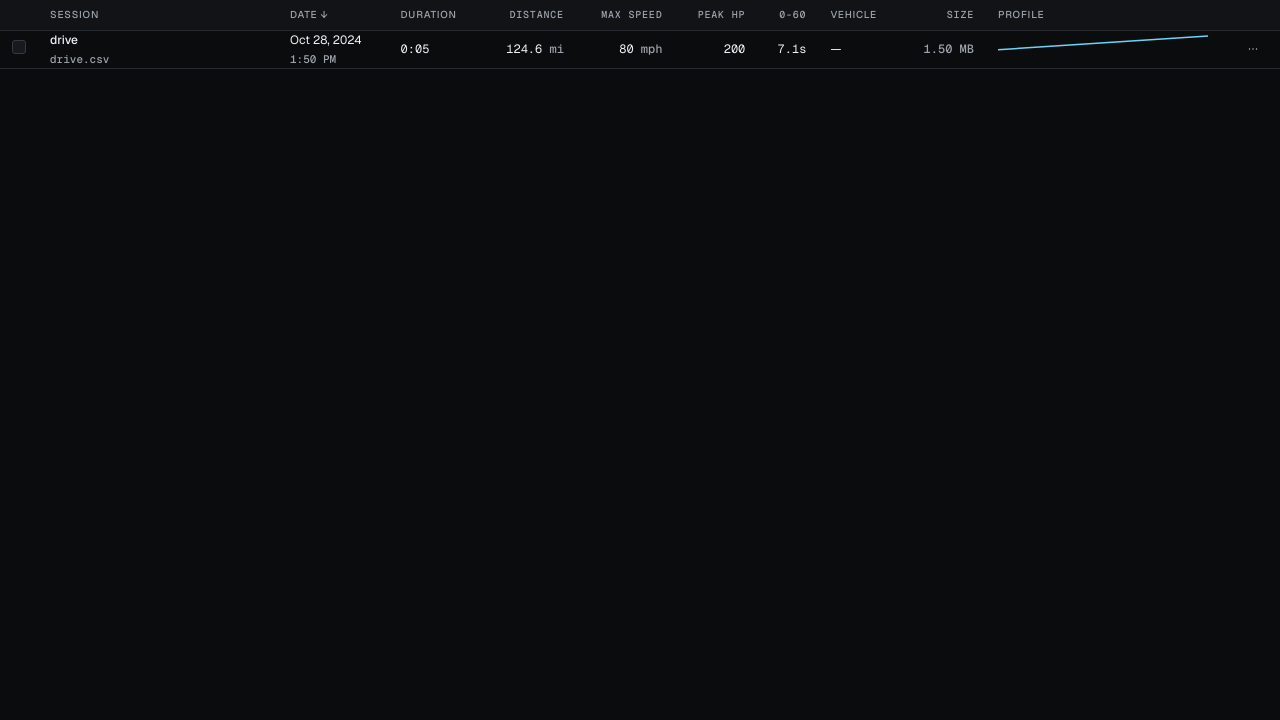
pages/library/sessions-table › menu Rename opens the rename dialog
Click the button with test id "sessions-table-more-s_1" at (1253, 49), box [1238,36,1268,62]
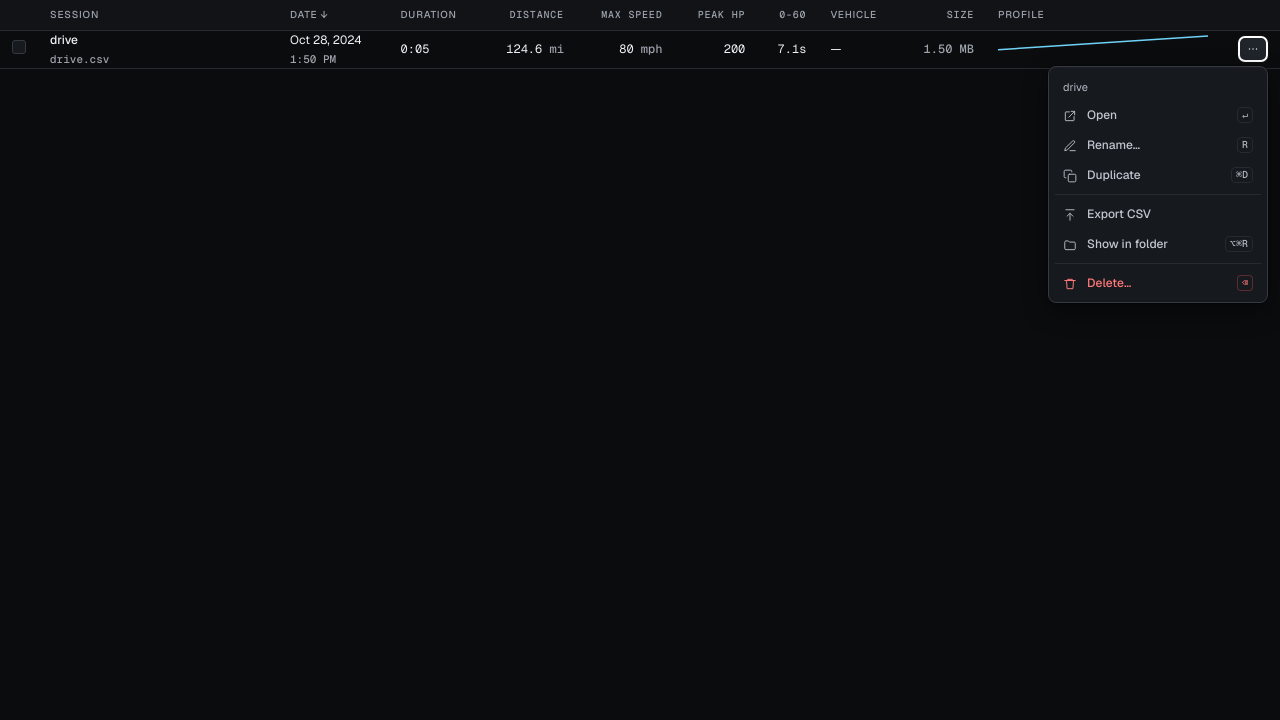
Click the menu item with test id "sessions-table-menu-rename" at (1158, 145), box [1053,130,1263,160]
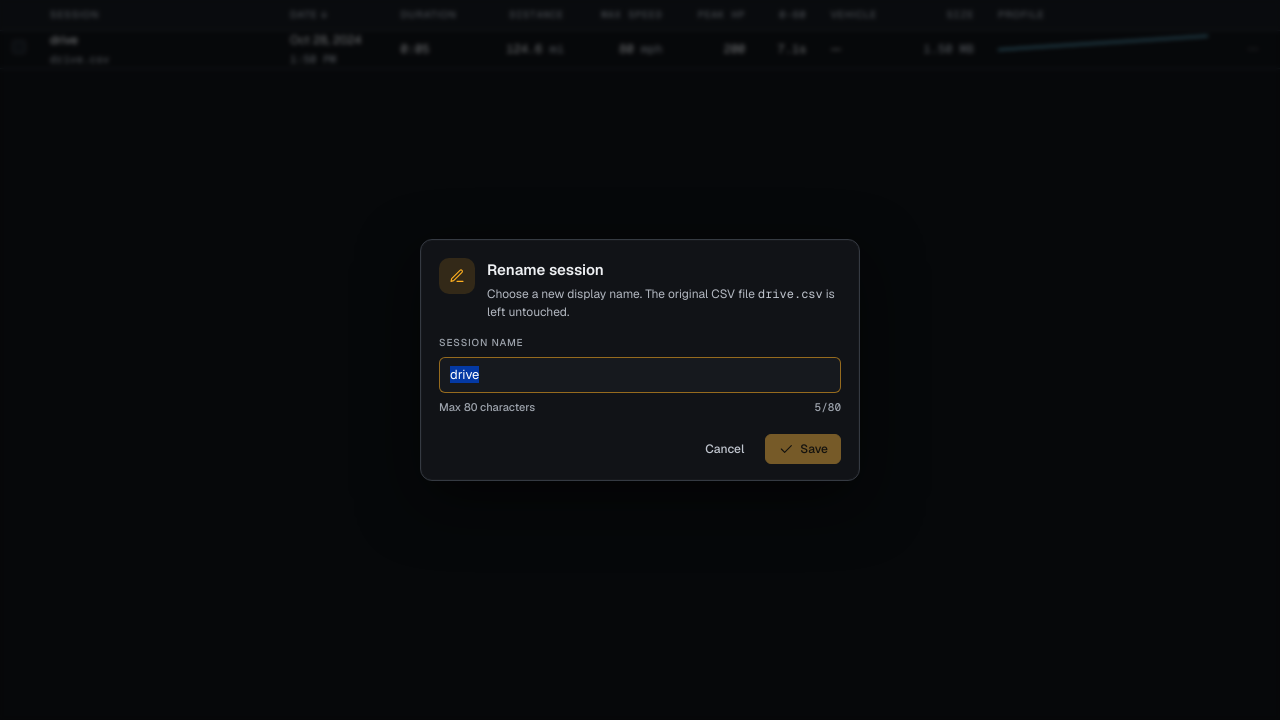
Expected: the dialog with test id "sessions-table-rename-dialog" is shown
